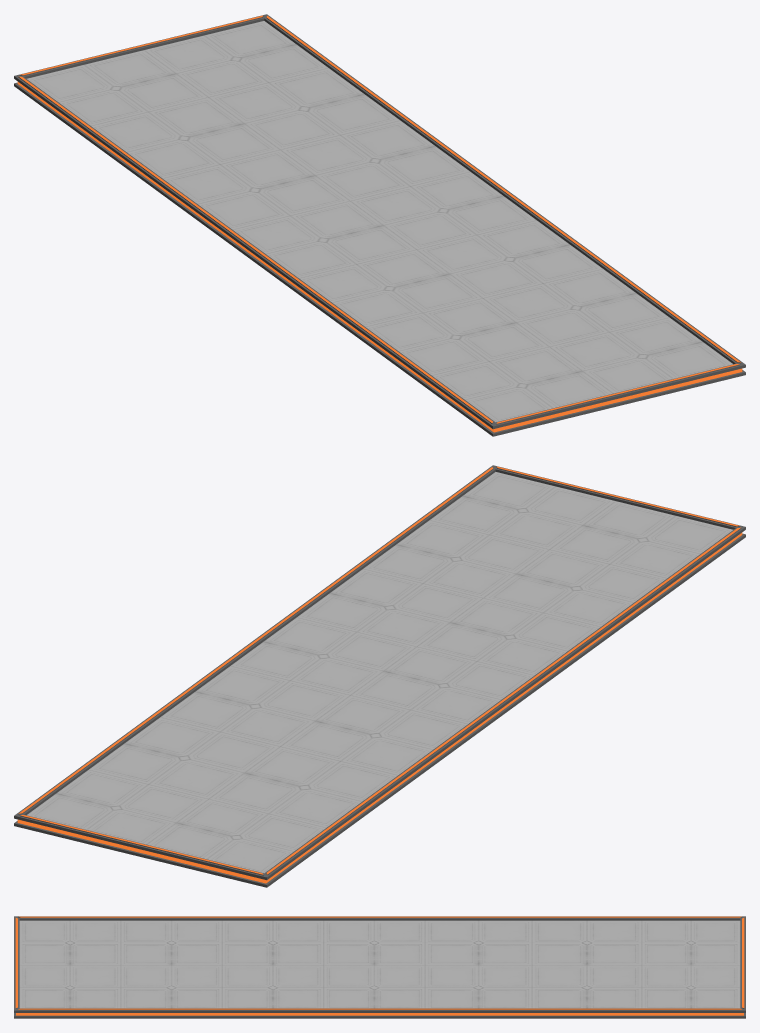
Rendered from Bodenplatte_03.glb.
3 renders of one model, top to bottom at view 1: azimuth 30°, elevation 25°; view 2: azimuth 150°, elevation 25°; view 3: azimuth 270°, elevation 25°, orthographic. The views are drawn at different scales.
Visible parts, largest first — view 1: Bodenplatte_03; view 2: Bodenplatte_03; view 3: Bodenplatte_03.
Boxes of the visible parts, box(x1,y1,x2,y2) form: Bodenplatte_03: box(14, 14, 745, 436); Bodenplatte_03: box(14, 465, 745, 887); Bodenplatte_03: box(14, 916, 745, 1018).
Size of the model in its own units: 5.05 by 0.2097 by 16.56.
3 materials, 1 textured.
